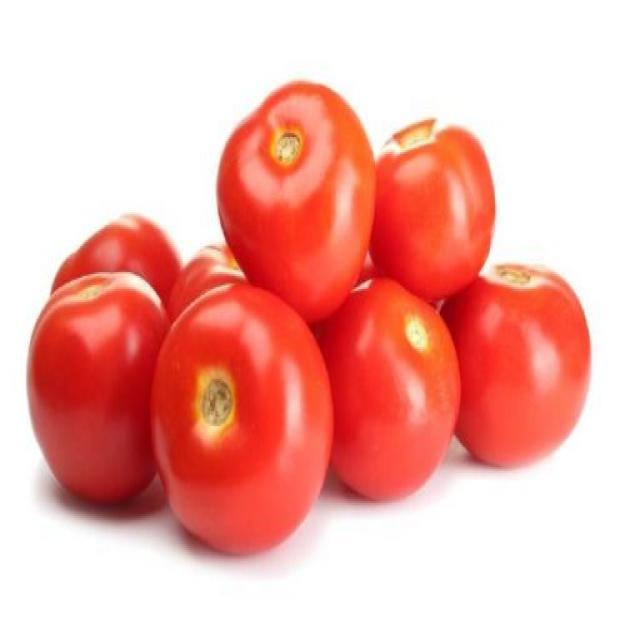kirmizi: (28, 74, 602, 564)
